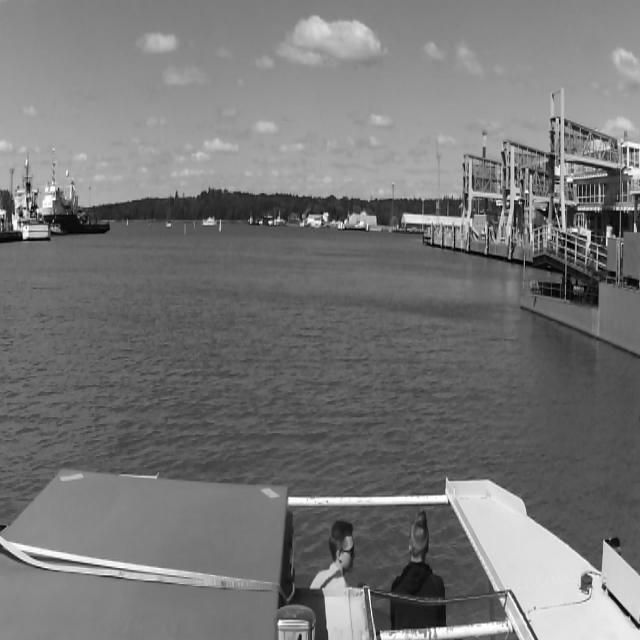buoy: (218, 219, 222, 233), (193, 219, 195, 230), (126, 218, 128, 226)
ship: (51, 147, 111, 237), (11, 153, 51, 243), (165, 194, 172, 228), (202, 215, 217, 227)
